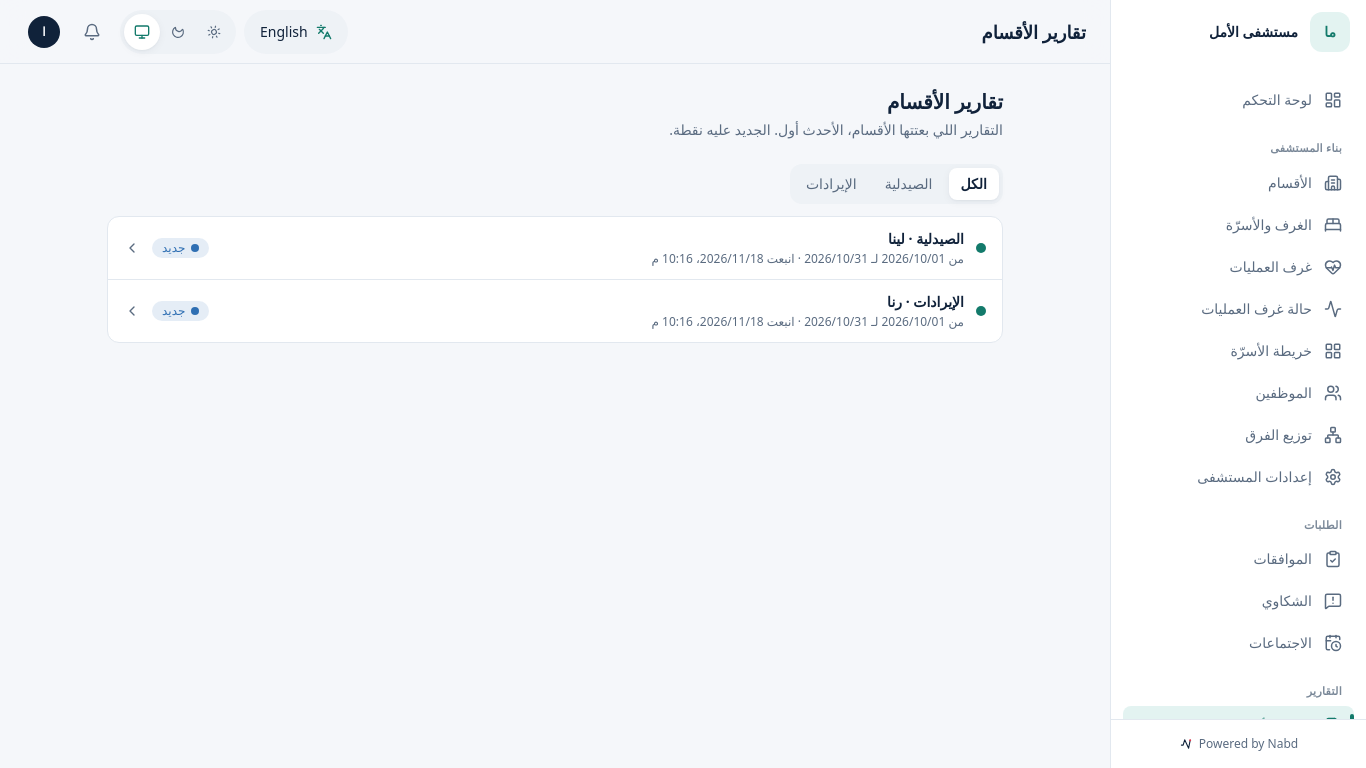
Test case: ReportsPage (task 4.19) › shows the pharmacy’s and the accountant’s reports, and filters by kind
Expected: the text "الصيدلية · لينا" is shown, [888, 229, 964, 248]
Expected: the text "الإيرادات · رنا" is shown, [887, 292, 964, 311]
Click the tab "الإيرادات" at (831, 184), box [794, 168, 869, 200]
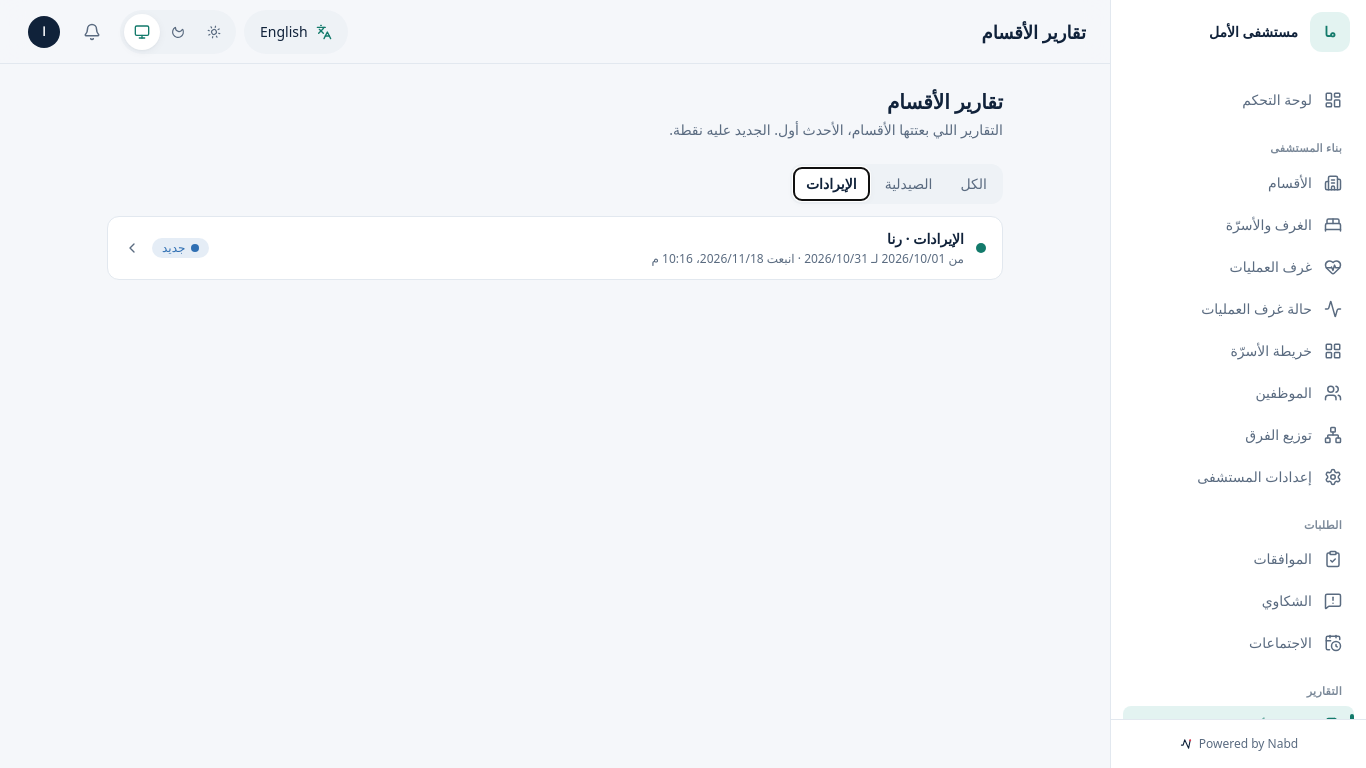
Expected: the text "الإيرادات · رنا" is shown, [887, 229, 964, 248]
Expected: the button "لينا" is gone
